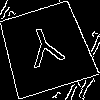Y: (21, 24, 70, 78)
